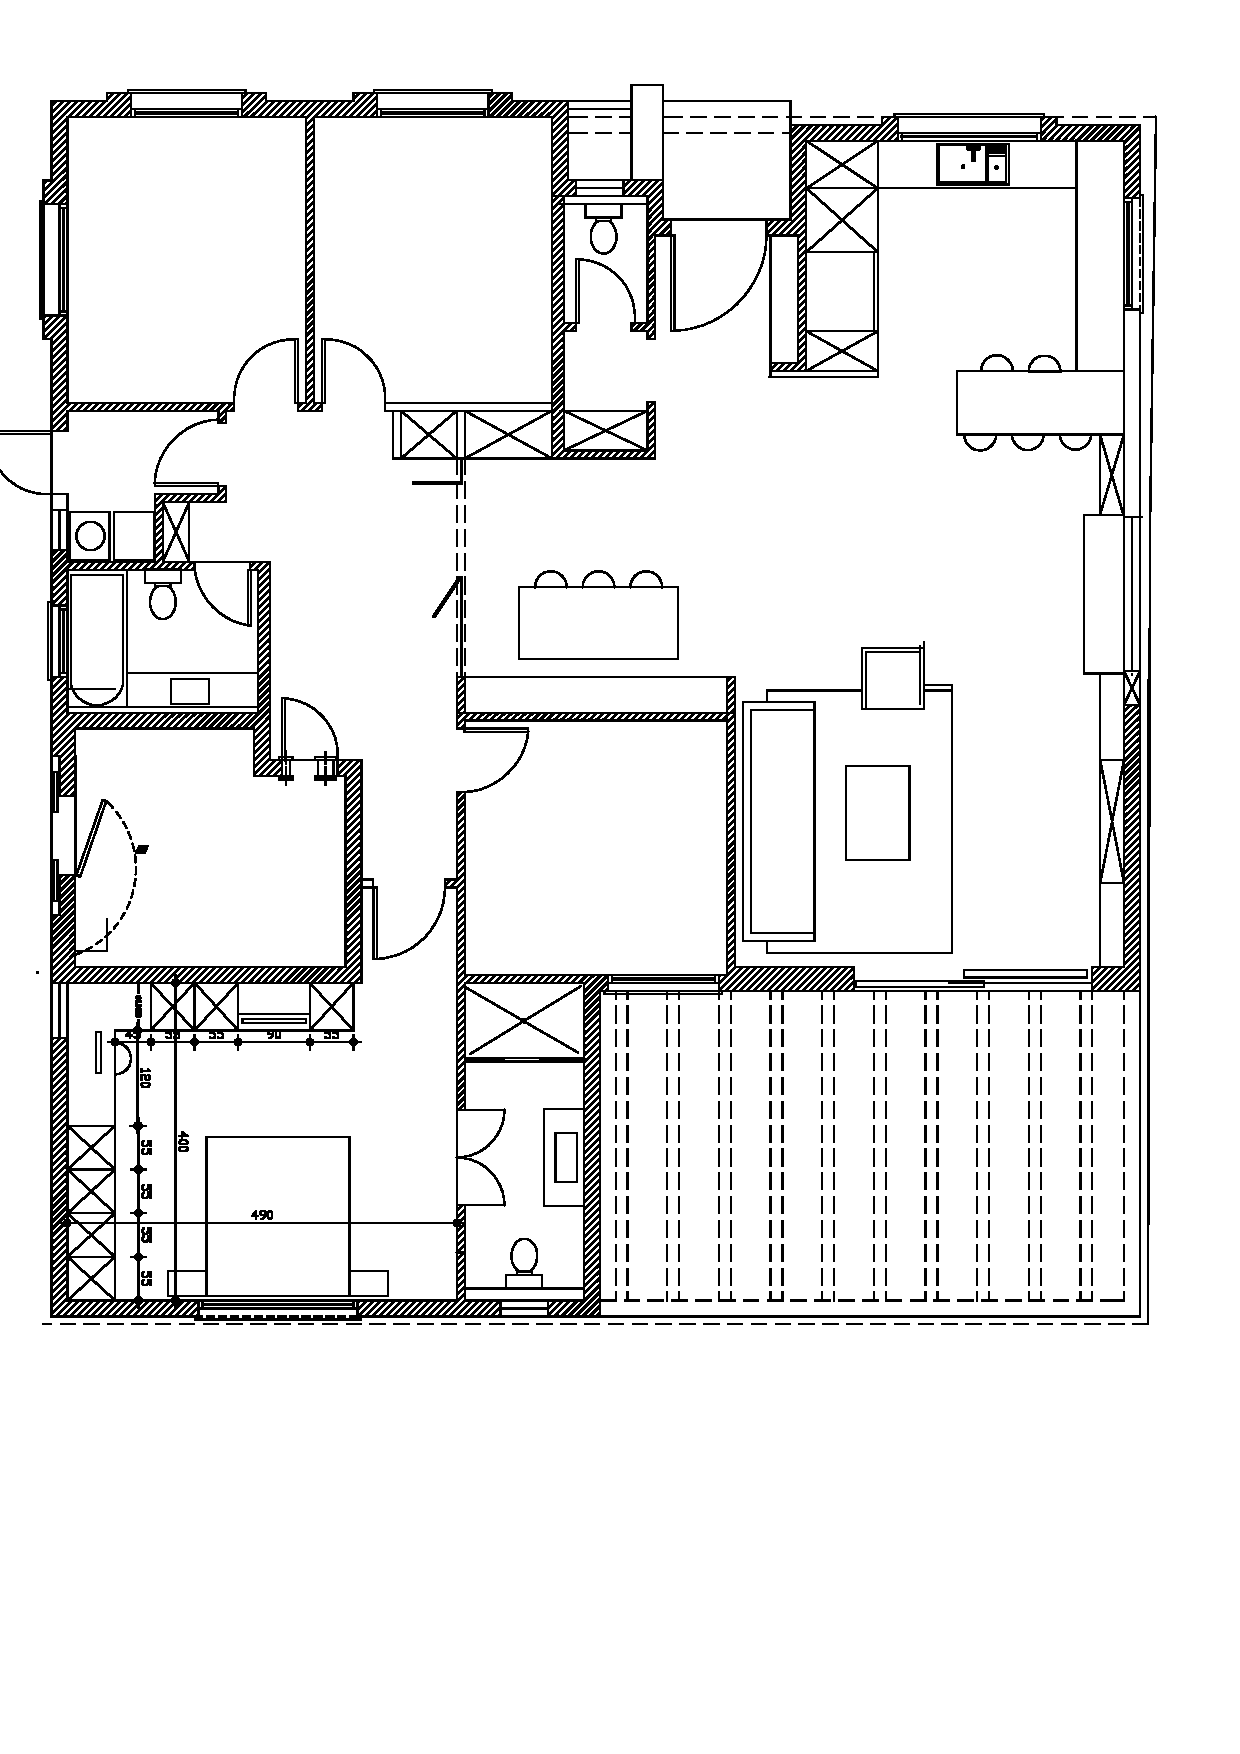wall: (582, 976, 601, 1314), (1122, 705, 1142, 993), (48, 966, 362, 984), (50, 1037, 68, 1315), (344, 760, 362, 982), (455, 790, 467, 1110), (51, 713, 271, 729), (255, 561, 271, 777), (552, 183, 564, 460), (725, 676, 734, 992), (240, 101, 376, 118), (52, 1300, 199, 1317), (356, 1300, 501, 1317), (454, 713, 735, 721), (50, 314, 68, 431), (1041, 122, 1139, 144), (788, 123, 899, 141), (50, 101, 67, 205), (788, 140, 805, 234), (50, 101, 133, 115), (544, 1299, 601, 1317)
